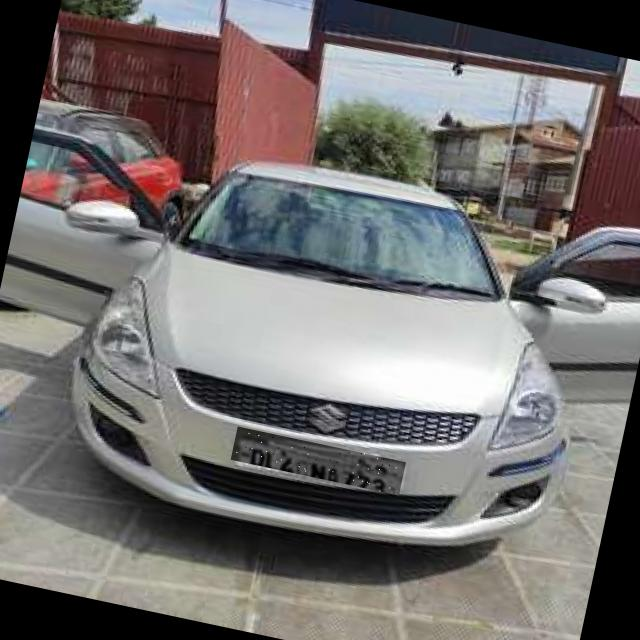Plate: (231, 427, 406, 496)
